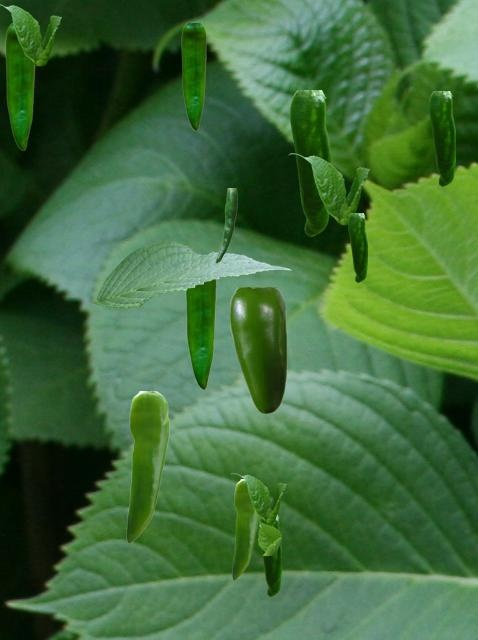green_chili: (230, 287, 286, 413), (126, 391, 168, 542), (290, 90, 329, 235), (5, 23, 34, 149), (185, 280, 215, 388), (232, 479, 259, 579), (181, 23, 205, 129), (429, 91, 454, 185), (215, 188, 236, 262), (261, 515, 280, 595), (348, 213, 366, 281)
